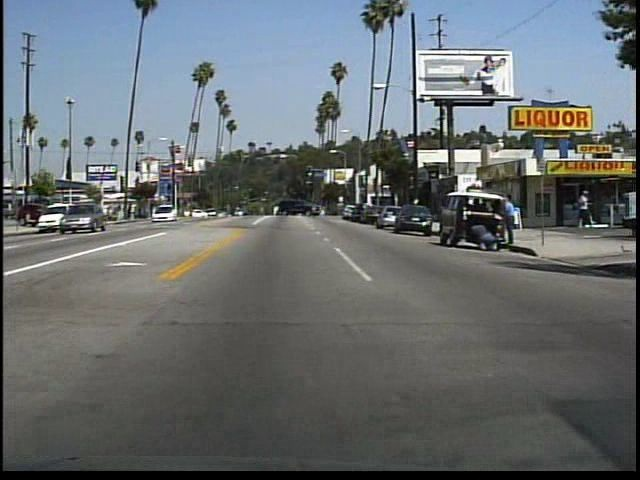person: (501, 193, 520, 246), (470, 220, 498, 255), (576, 187, 593, 232)
